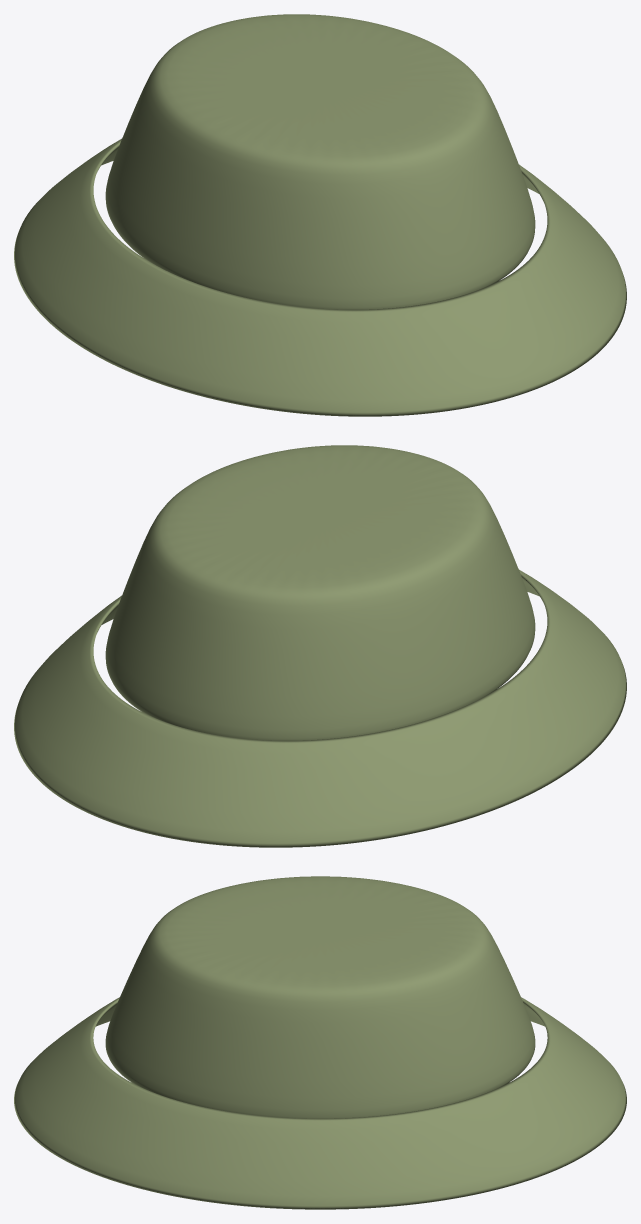
File: hat_bucket.glb
3 renders of one model, top to bottom at view 1: azimuth 30°, elevation 25°; view 2: azimuth 150°, elevation 25°; view 3: azimuth 270°, elevation 25°, orthographic. The views are drawn at different scales.
Parts seen in each view (by area): view 1: bucket; view 2: bucket; view 3: bucket.
Boxes of the visible parts, left/top/right/bottom form: bucket: left=14, top=14, right=626, bottom=416; bucket: left=14, top=445, right=626, bottom=847; bucket: left=14, top=876, right=626, bottom=1209.
Bounding box in the file's own units: 0.3446 × 0.1251 × 0.4073.
